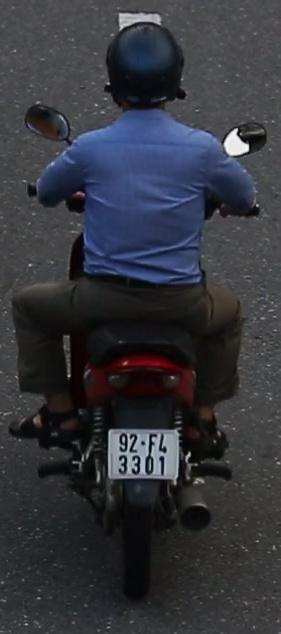LP: (105, 425, 185, 486)
helmet: (101, 18, 191, 138)
